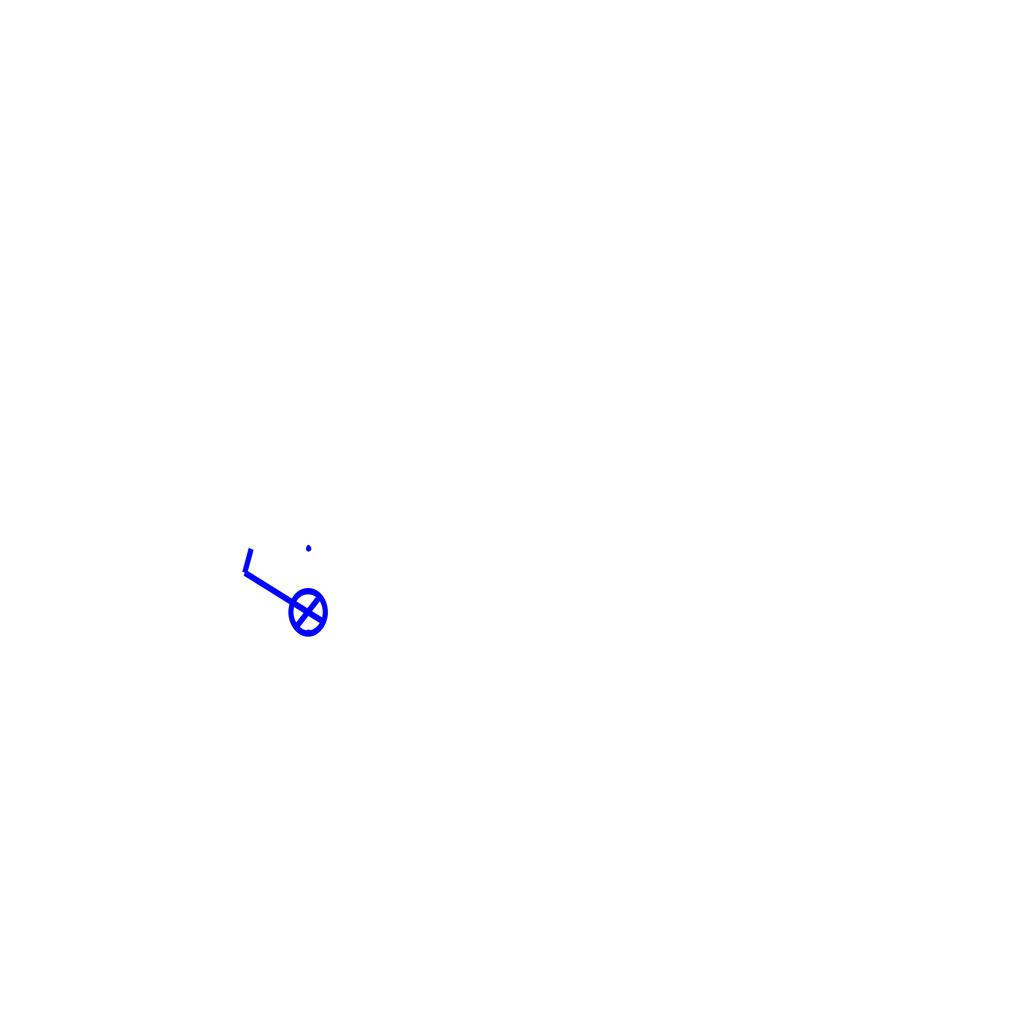Ausschalter_beleuchtet: (234, 539, 330, 651)
